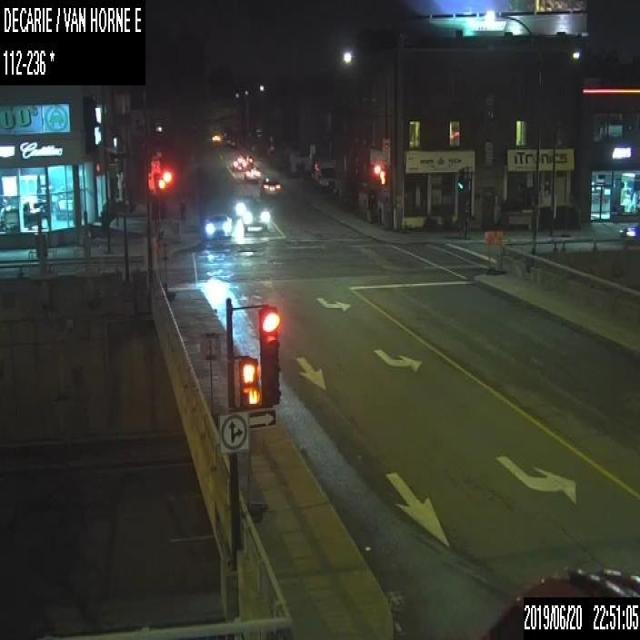construction: (241, 426, 266, 516), (204, 329, 223, 424), (494, 228, 504, 274), (484, 229, 494, 273)
vehicle: (506, 564, 639, 639), (242, 200, 268, 234), (201, 212, 230, 238), (313, 157, 335, 189), (260, 176, 280, 197), (617, 221, 639, 237), (244, 166, 261, 181), (238, 151, 252, 166), (232, 156, 246, 170)
